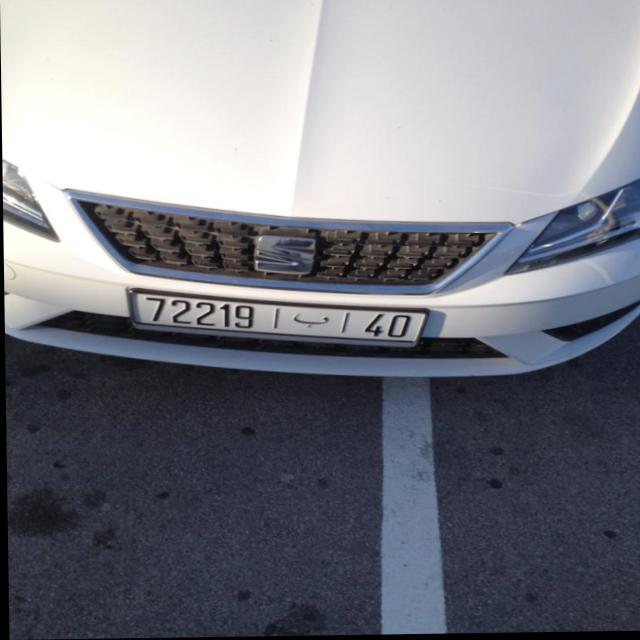License-Plate: (130, 291, 425, 348)
